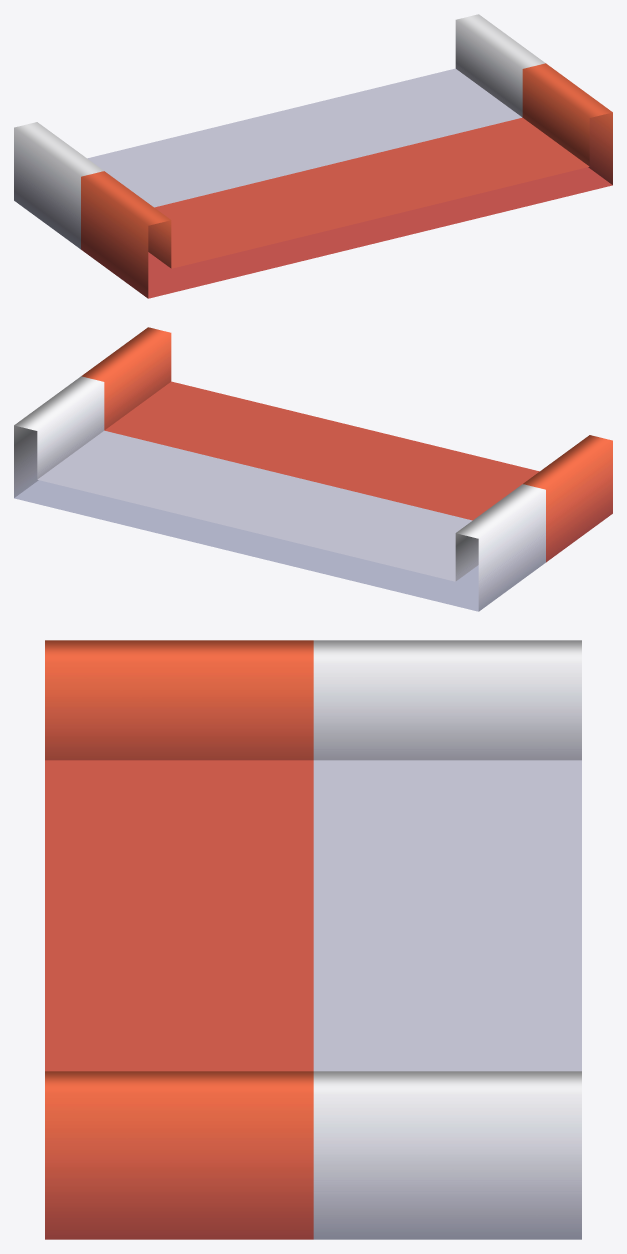
The model's file is kenney-toy-car-track-striped-wide.glb.
3 renders of one model, top to bottom at view 1: azimuth 30°, elevation 25°; view 2: azimuth 150°, elevation 25°; view 3: azimuth 270°, elevation 25°, orthographic. The views are drawn at different scales.
Parts seen in each view (by area): view 1: track-striped-wide; view 2: track-striped-wide; view 3: track-striped-wide.
Boxes of the visible parts, box(x1,y1,x2,y2) form: track-striped-wide: box(14, 14, 612, 298); track-striped-wide: box(14, 327, 612, 611); track-striped-wide: box(45, 640, 581, 1239).
Size of the model in its own units: 2 by 0.3001 by 1.
1 material, 1 textured.
